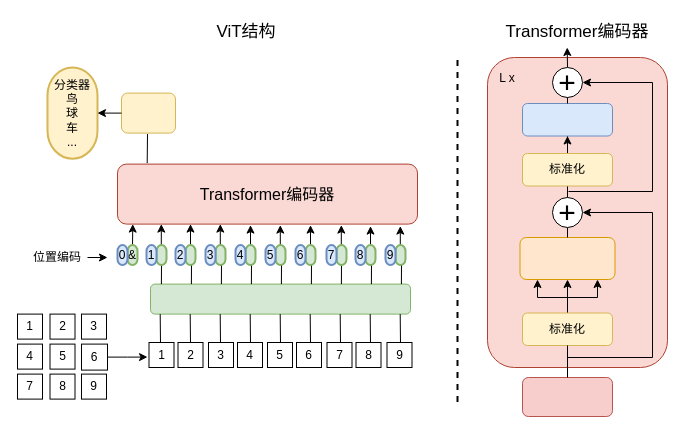
Image size: 685x434. Some labels were removed from this diagram. Each missing label, with the centre of its shape:
"MLP" goes at point (567, 119).
"MLP头" goes at point (148, 112).
"多头注意力" goes at point (567, 258).
"嵌入模块" goes at point (567, 396).
"线性一维映射模块" goes at point (280, 298).
